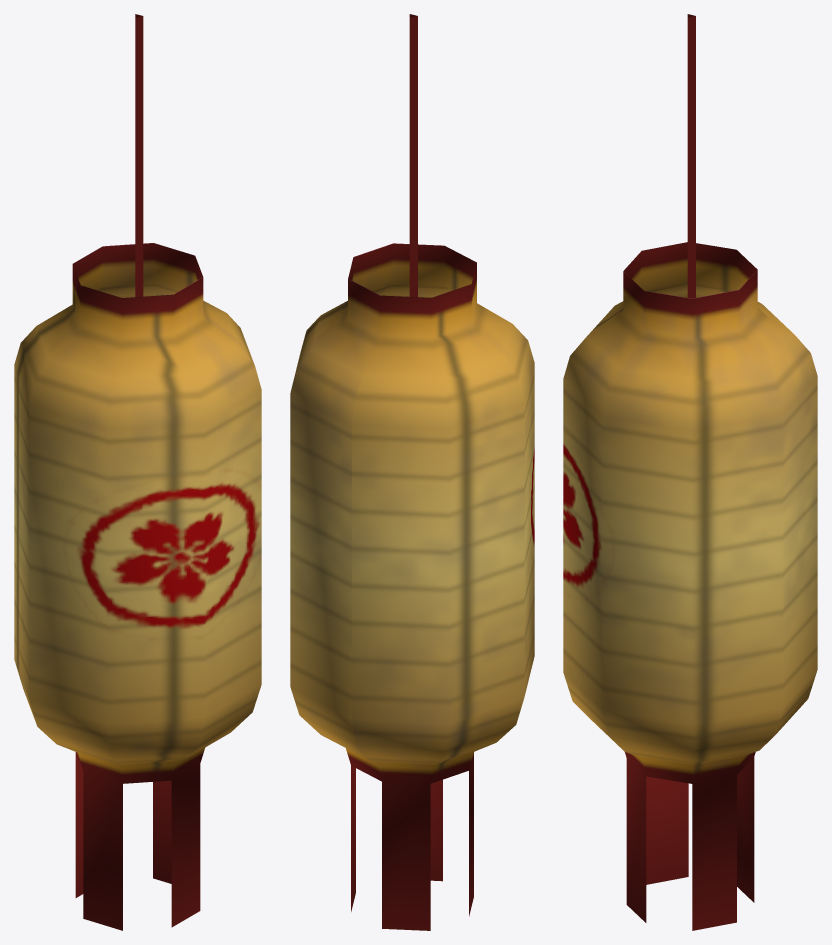
File: SM_lamp_02.fbx
3 views of the same model, side by side, from view 1: azimuth 30°, elevation 25°; view 2: azimuth 150°, elevation 25°; view 3: azimuth 270°, elevation 25° (orthographic).
Parts seen in each view (by area): view 1: SM_lamp_02; view 2: SM_lamp_02; view 3: SM_lamp_02.
Part boxes in pixels (x1,y1,x2,y2): SM_lamp_02: [14, 14, 261, 930]; SM_lamp_02: [290, 14, 534, 930]; SM_lamp_02: [563, 14, 817, 930].
Bounding box in the file's own units: 31.34 × 121 × 31.34.
